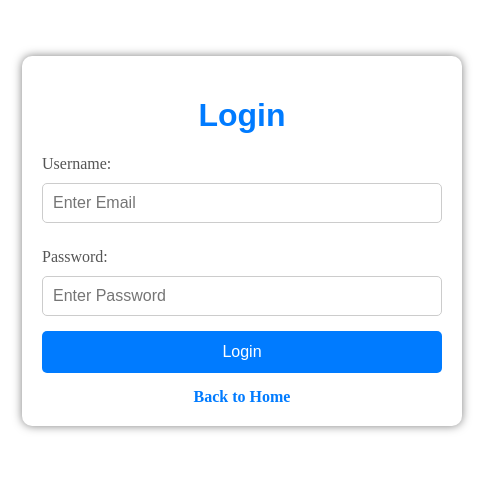
Test: Login Component › shows error message on failed login attempt
This screenshot has width=485, height=483.
Type "test@example.com" into the field with placeholder "Enter Email" at (242, 203), box [42,183,442,223]
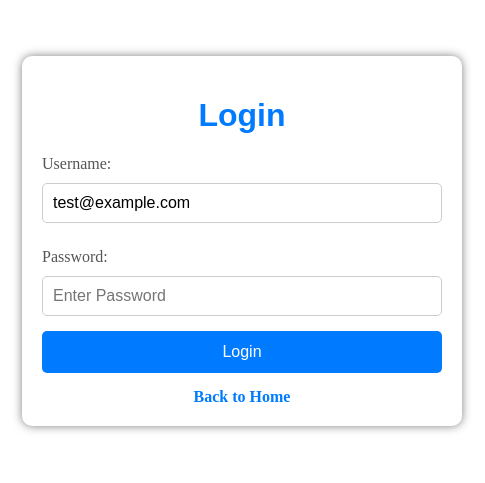
Type "wrongpassword" into the password field with placeholder "Enter Password" at (242, 296), box [42,276,442,316]
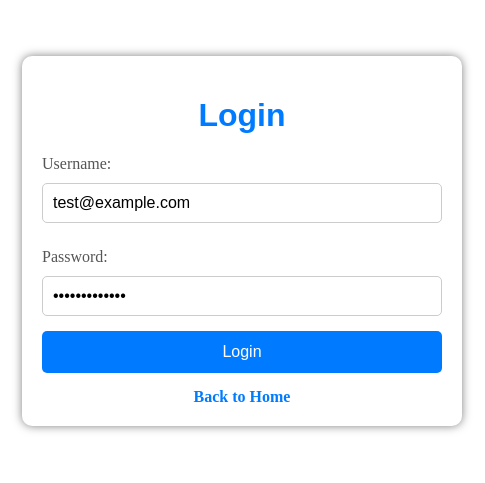
Click the button "Login" at (242, 352), box [42,331,442,373]
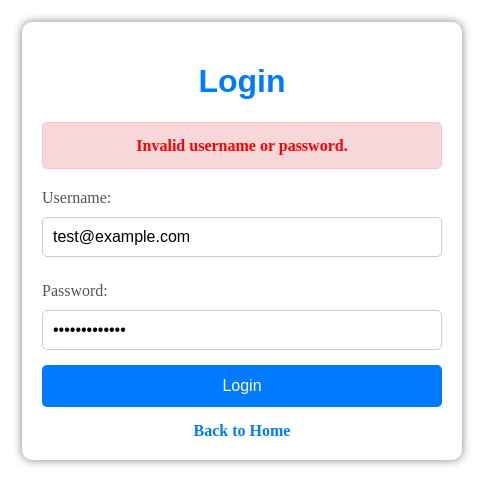
expect the text "Invalid username or password." is shown: met, box [42,122,442,169]
